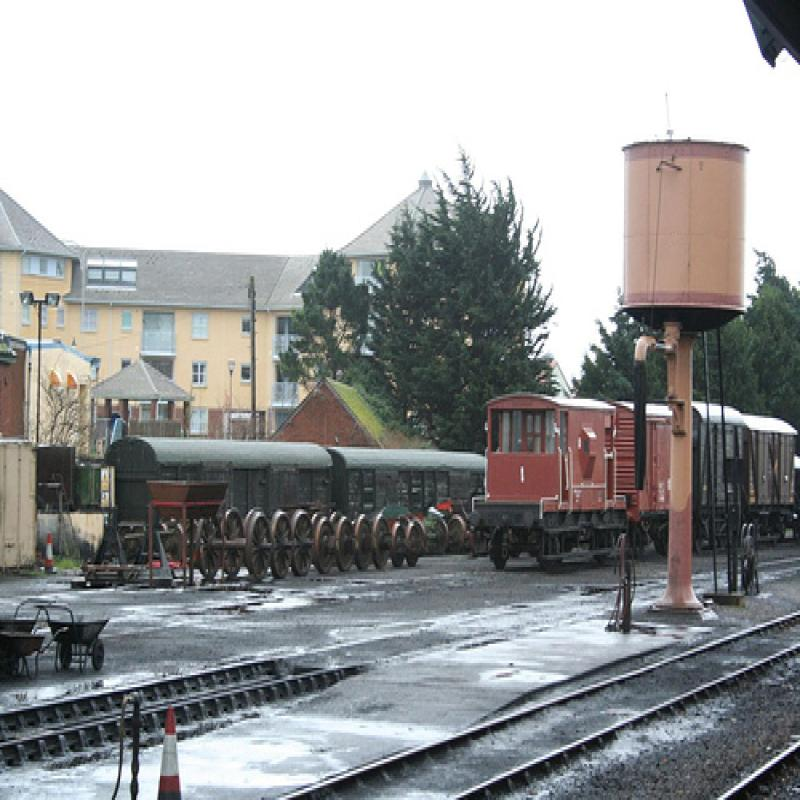train: (467, 378, 798, 580), (101, 438, 488, 587)
